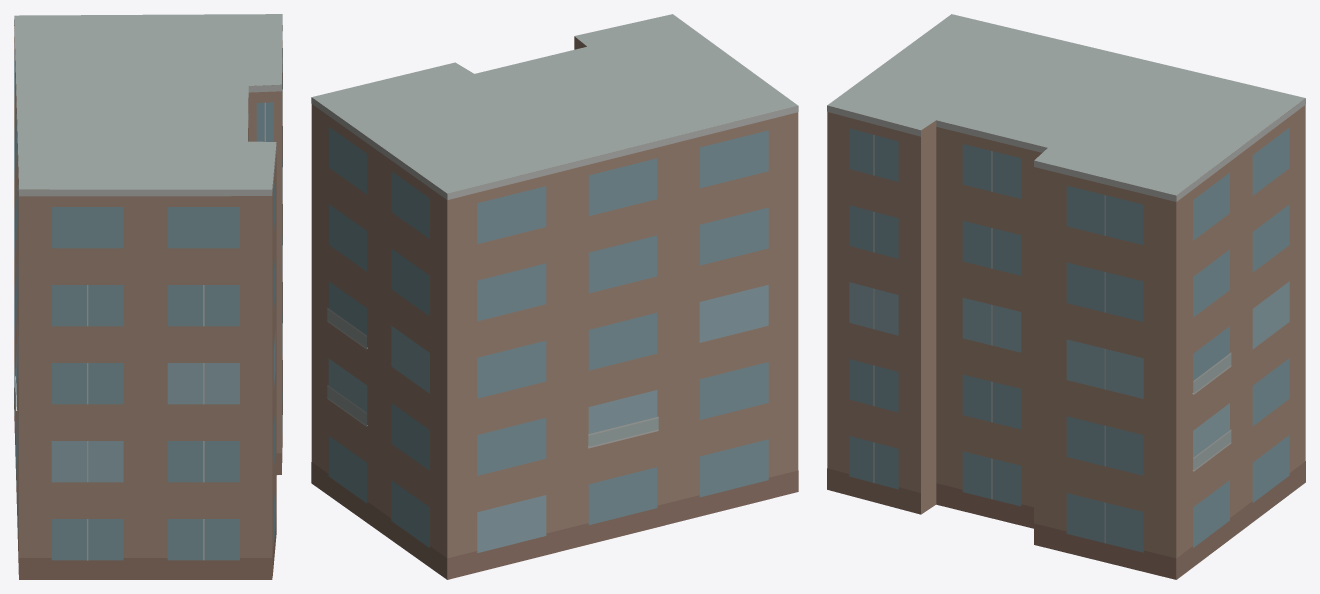
The model's file is survey-upis-32873100.glb.
The picture shows the model from 3 angles, left to right: view 1: azimuth 30°, elevation 25°; view 2: azimuth 150°, elevation 25°; view 3: azimuth 270°, elevation 25°; orthographic projection.
Parts seen in each view (by area): view 1: survey-upis-32873100.tmp; view 2: survey-upis-32873100.tmp; view 3: survey-upis-32873100.tmp.
Boxes of the visible parts, left/top/right/bottom form: survey-upis-32873100.tmp: left=14, top=14, right=282, bottom=579; survey-upis-32873100.tmp: left=311, top=14, right=798, bottom=579; survey-upis-32873100.tmp: left=827, top=14, right=1305, bottom=579.
Size of the model in its own units: 14.75 by 14.55 by 16.43.
